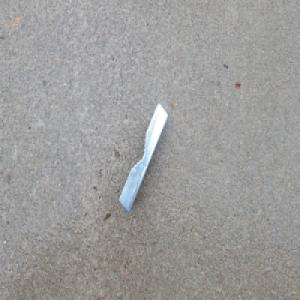ClampPart: (118, 102, 168, 213)
